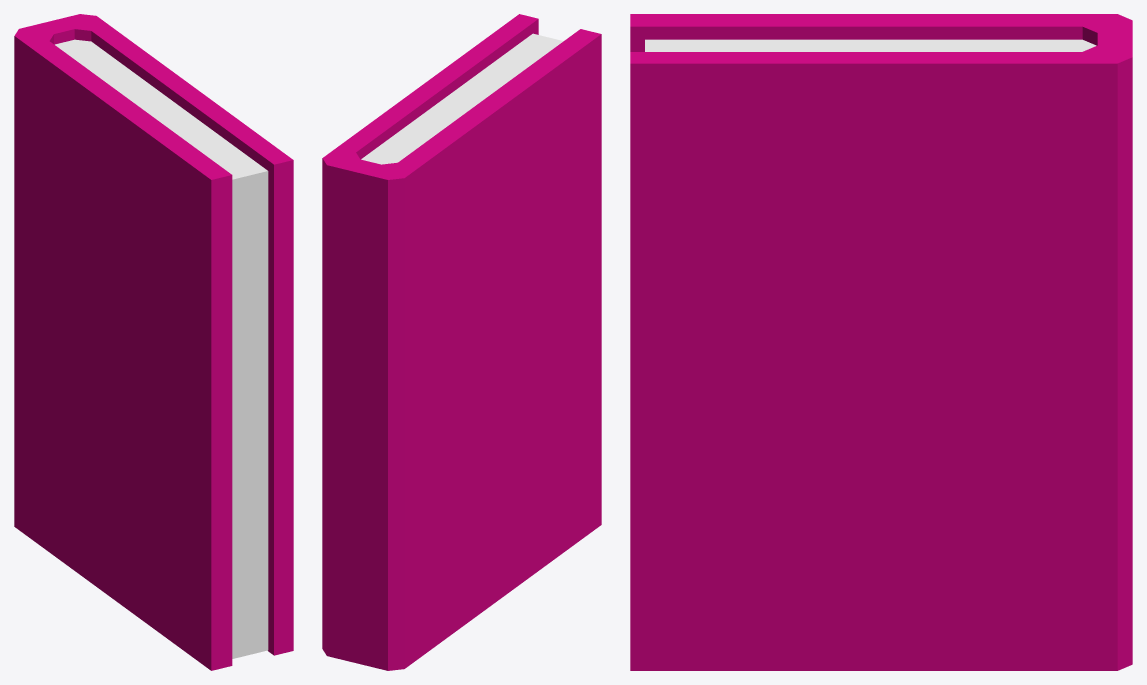
Rendered from Libro11.fbx.
The picture shows the model from 3 angles, left to right: view 1: azimuth 30°, elevation 25°; view 2: azimuth 150°, elevation 25°; view 3: azimuth 270°, elevation 25°; orthographic projection. The views are drawn at different scales.
Visible parts, largest first — view 1: Libro11; view 2: Libro11; view 3: Libro11.
Boxes of the visible parts, left/top/right/bottom form: Libro11: left=14, top=14, right=293, bottom=670; Libro11: left=322, top=14, right=601, bottom=670; Libro11: left=630, top=14, right=1132, bottom=670.
Size of the model in its own units: 5.58 by 31.89 by 23.89.
